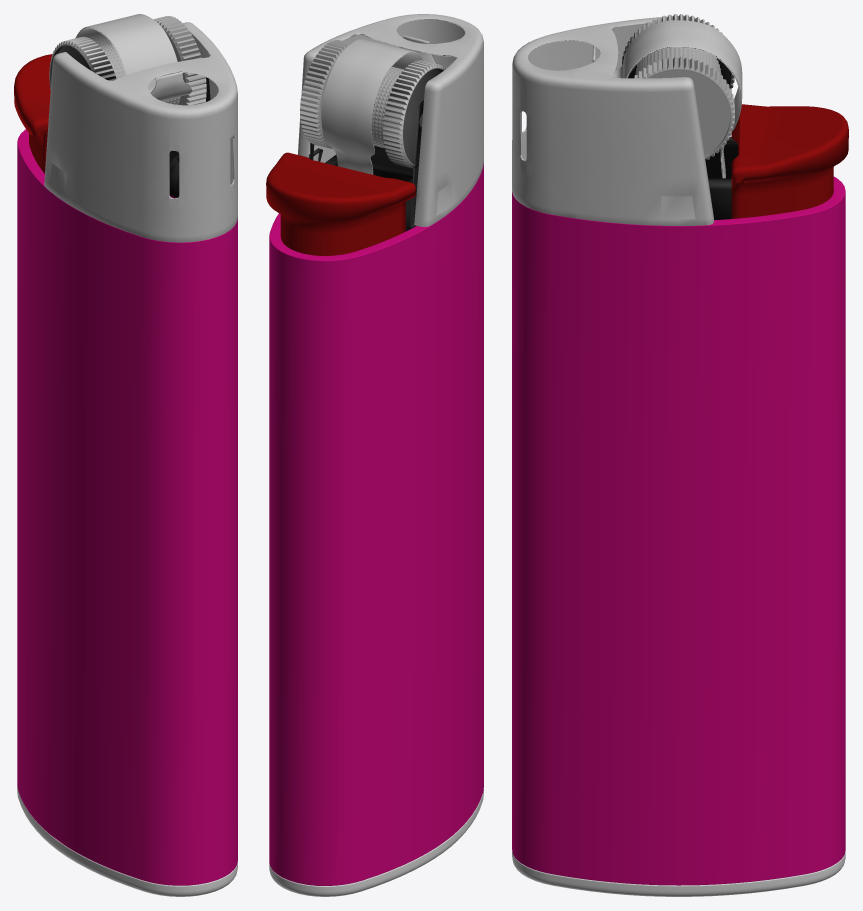
File: lighter_colored.obj
3 renders of one model, left to right at view 1: azimuth 30°, elevation 25°; view 2: azimuth 150°, elevation 25°; view 3: azimuth 270°, elevation 25°, orthographic. The views are drawn at different scales.
Bounding box in the file's own units: 0.825 × 4.54 × 1.67.
